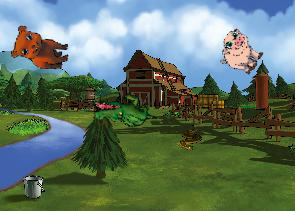bear: (10, 24, 71, 70)
crocodile: (90, 86, 157, 136)
pig: (213, 25, 268, 79)
